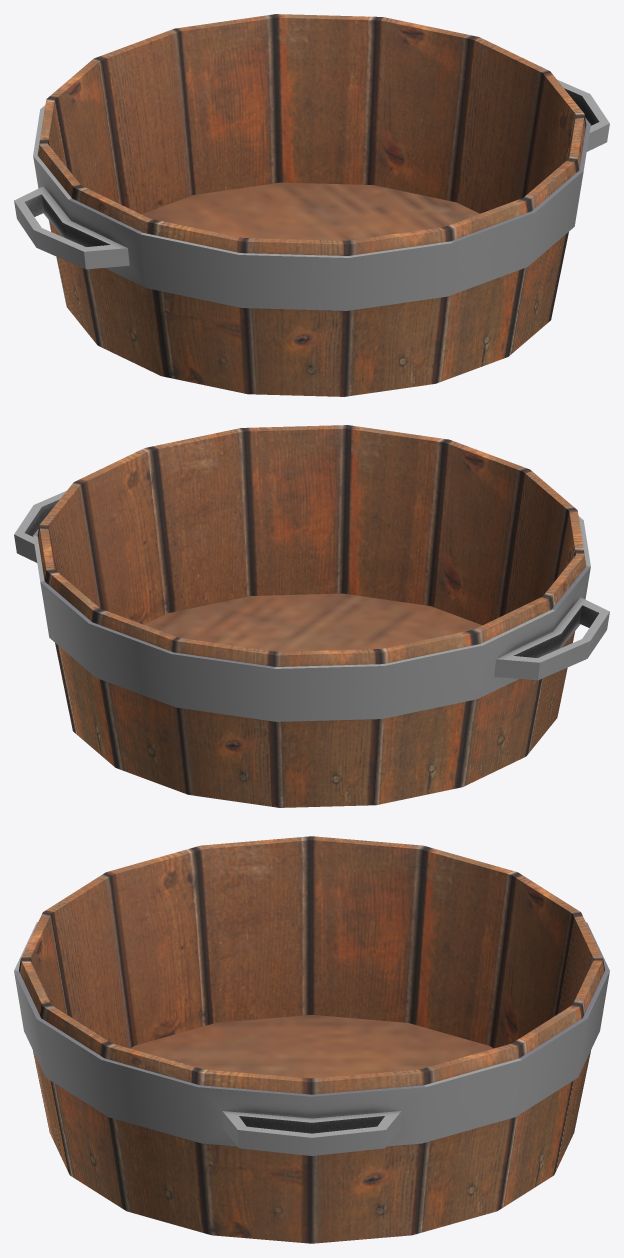
File: Bucket_Empty.fbx
3 renders of one model, top to bottom at view 1: azimuth 30°, elevation 25°; view 2: azimuth 150°, elevation 25°; view 3: azimuth 270°, elevation 25°, orthographic. The views are drawn at different scales.
Visible parts, largest first — view 1: Bucket_Empty; view 2: Bucket_Empty; view 3: Bucket_Empty.
Boxes of the visible parts, x1=… form: Bucket_Empty: x1=14, y1=14, x2=609, y2=396; Bucket_Empty: x1=14, y1=425, x2=609, y2=807; Bucket_Empty: x1=14, y1=836, x2=609, y2=1243.
Size of the model in its own units: 15992 by 4500 by 13997.
